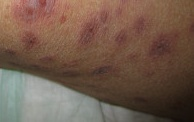SJS-TEN: (7, 0, 179, 86)
